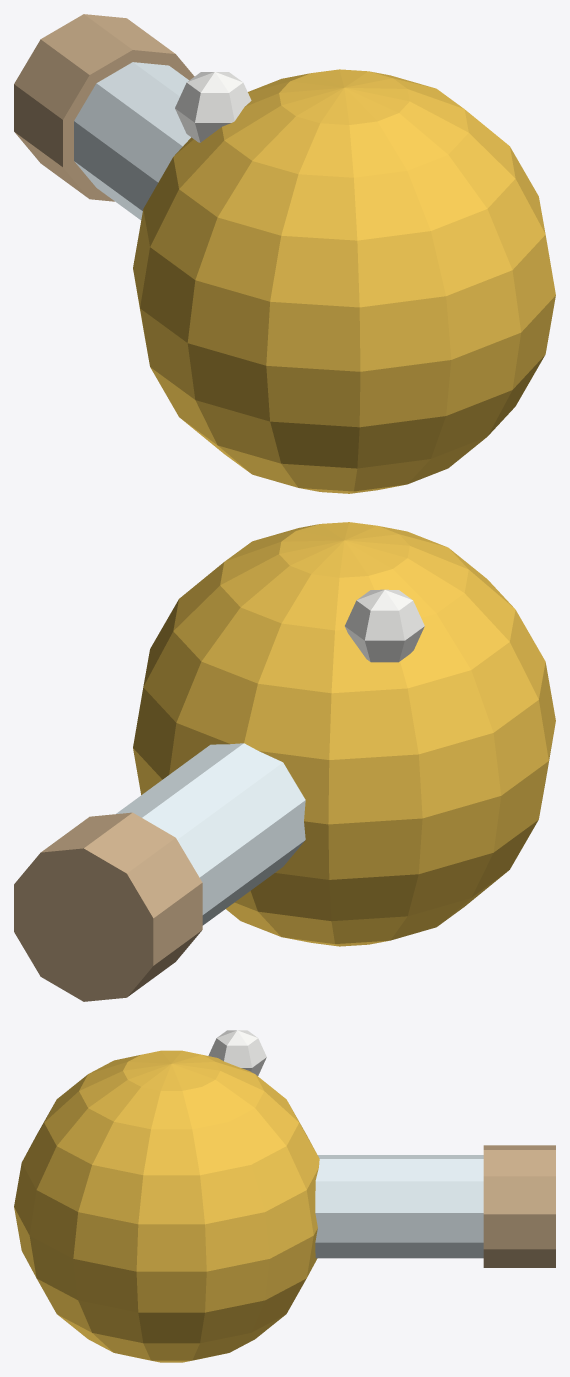
Rendered from honey_bottle_held.gltf.
The picture shows the model from 3 angles, top to bottom: view 1: azimuth 30°, elevation 25°; view 2: azimuth 150°, elevation 25°; view 3: azimuth 270°, elevation 25°; orthographic projection. The views are drawn at different scales.
Parts seen in each view (by area): view 1: bees_honey_bottle_held; view 2: bees_honey_bottle_held; view 3: bees_honey_bottle_held.
Part boxes in pixels (left/top/right/bottom): bees_honey_bottle_held: left=14, top=14, right=555, bottom=493; bees_honey_bottle_held: left=14, top=522, right=555, bottom=1001; bees_honey_bottle_held: left=14, top=1030, right=555, bottom=1362.
Bounding box in the file's own units: 0.0936 × 0.097 × 0.165.
